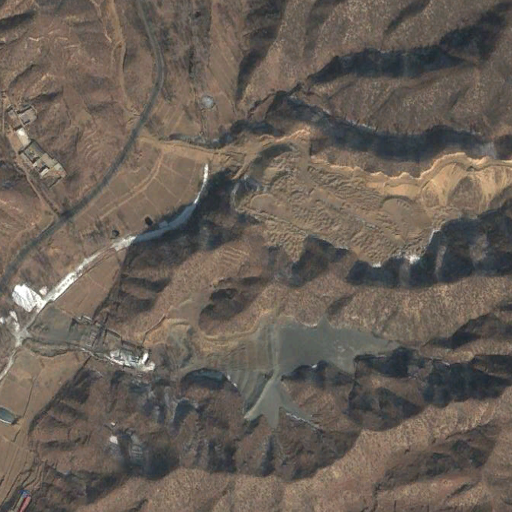tp: (211, 319, 400, 375), (224, 369, 310, 430)
